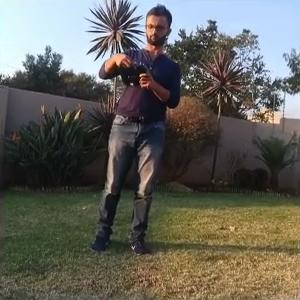follow: (86, 0, 186, 264)
